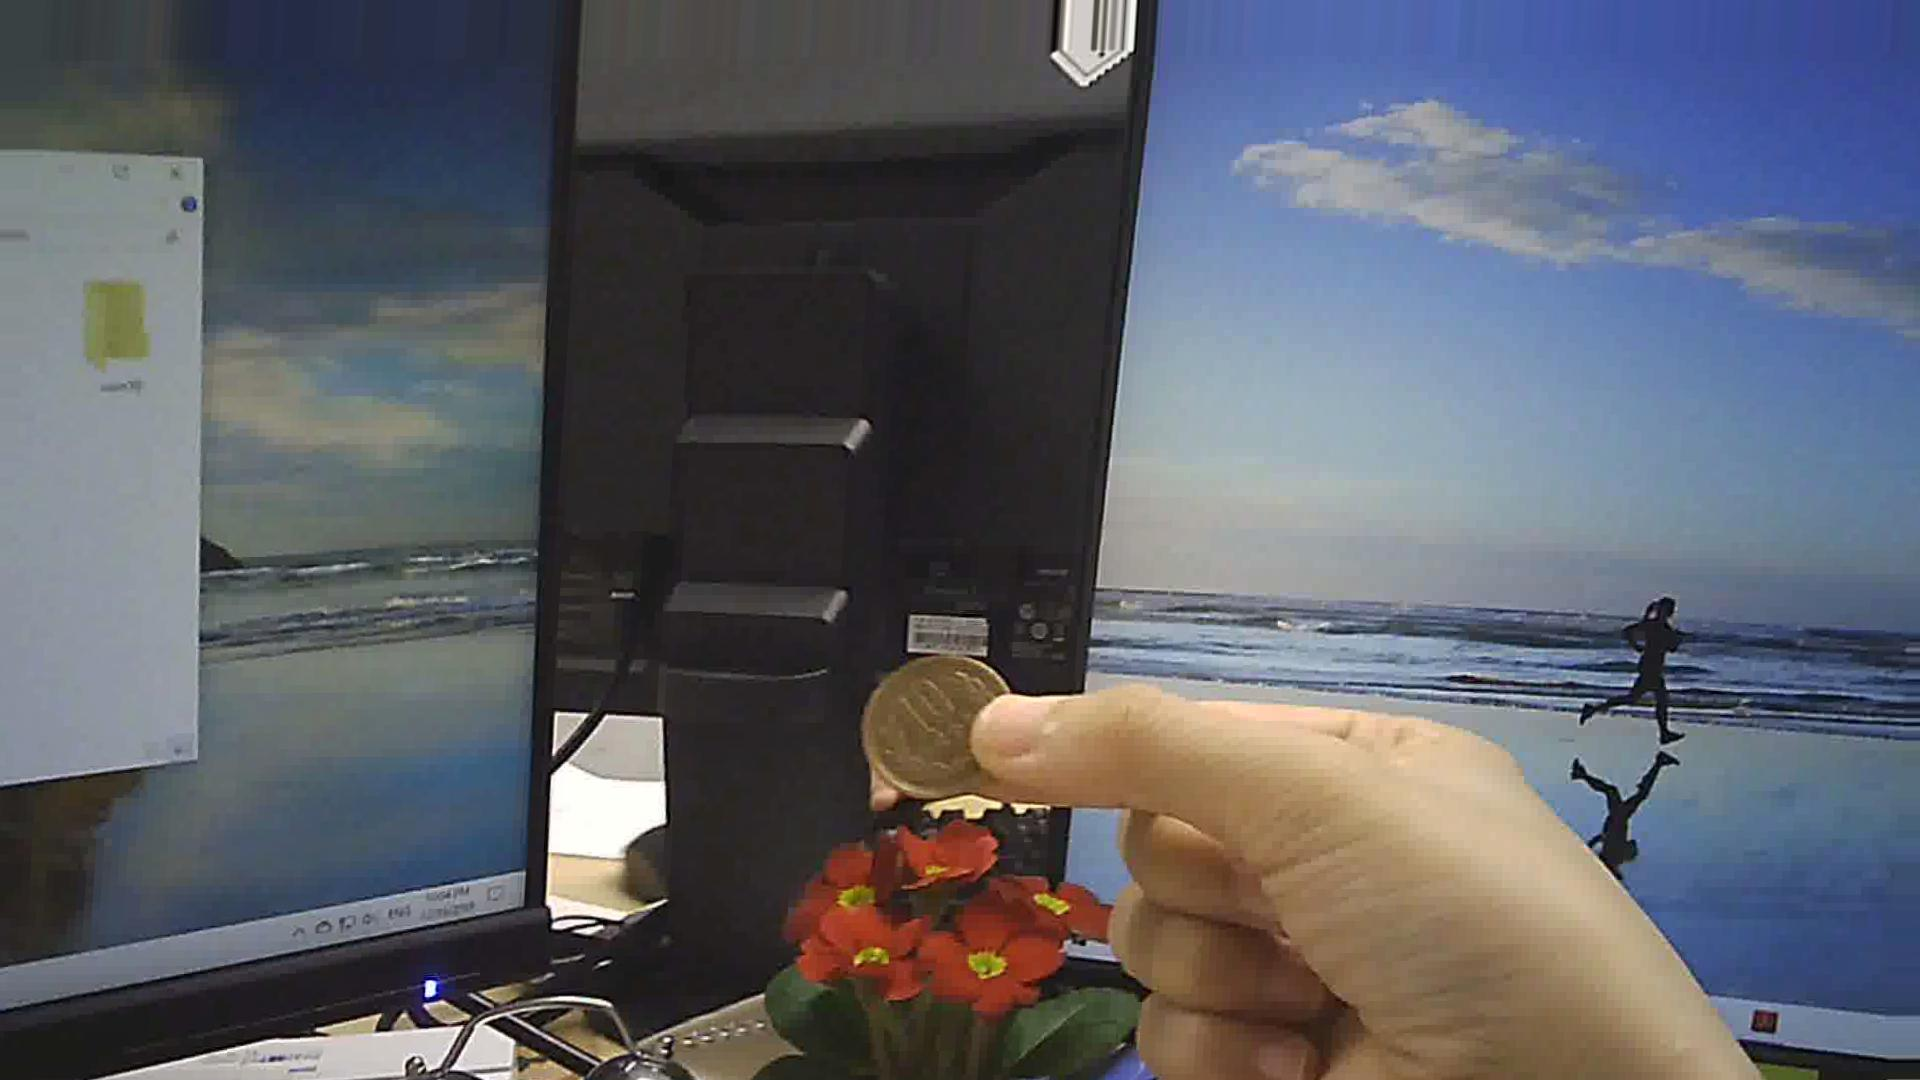10 Yen: (861, 638, 1021, 804)
